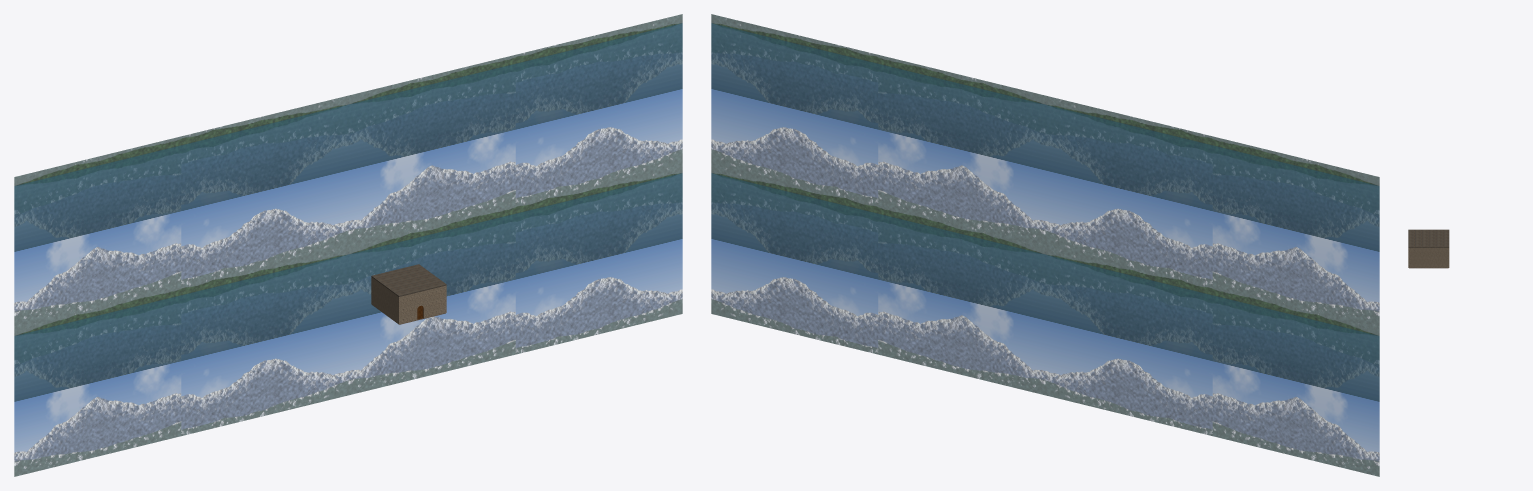
File: parentsbath.glb
The picture shows the model from 3 angles, left to right: view 1: azimuth 30°, elevation 25°; view 2: azimuth 150°, elevation 25°; view 3: azimuth 270°, elevation 25°; orthographic projection. The views are drawn at different scales.
Visible parts, largest first — view 1: lake view, ceiling, front wall, side wall; view 2: lake view; view 3: side wall.001, ceiling.
Boxes of the visible parts, x1,y1,x2,y2 form: lake view: (14,14,682,476); ceiling: (371,264,446,296); front wall: (398,286,444,324); side wall: (373,278,401,324); lake view: (711,14,1379,476); side wall.001: (1408,247,1447,267); ceiling: (1408,229,1449,247).
Bounding box in the file's own units: 112 × 48 × 21.6.
Materials: 53 (24 with a texture image).
